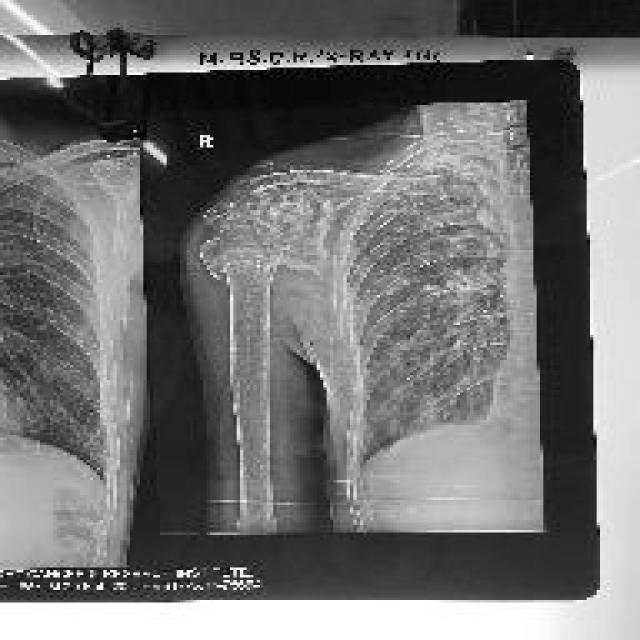bone-cancer: (193, 183, 333, 288)
